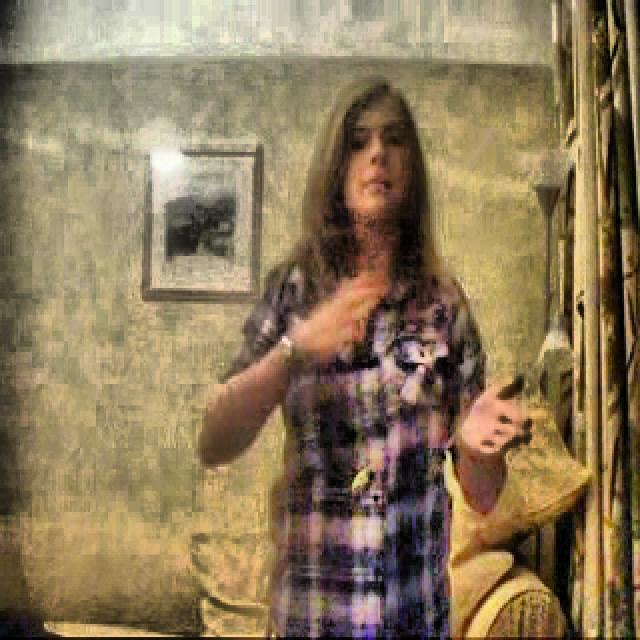F: (203, 78, 521, 638)
